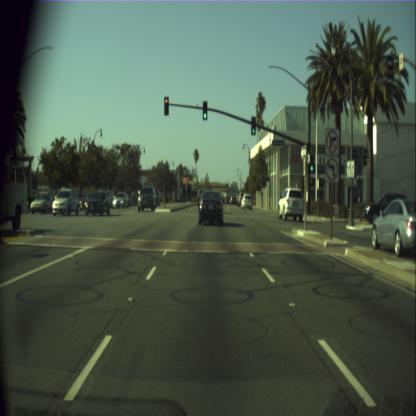Green: (202, 100, 207, 118), (310, 154, 314, 172), (251, 116, 255, 134)
RedLeft: (164, 96, 168, 115), (9, 152, 13, 170)
